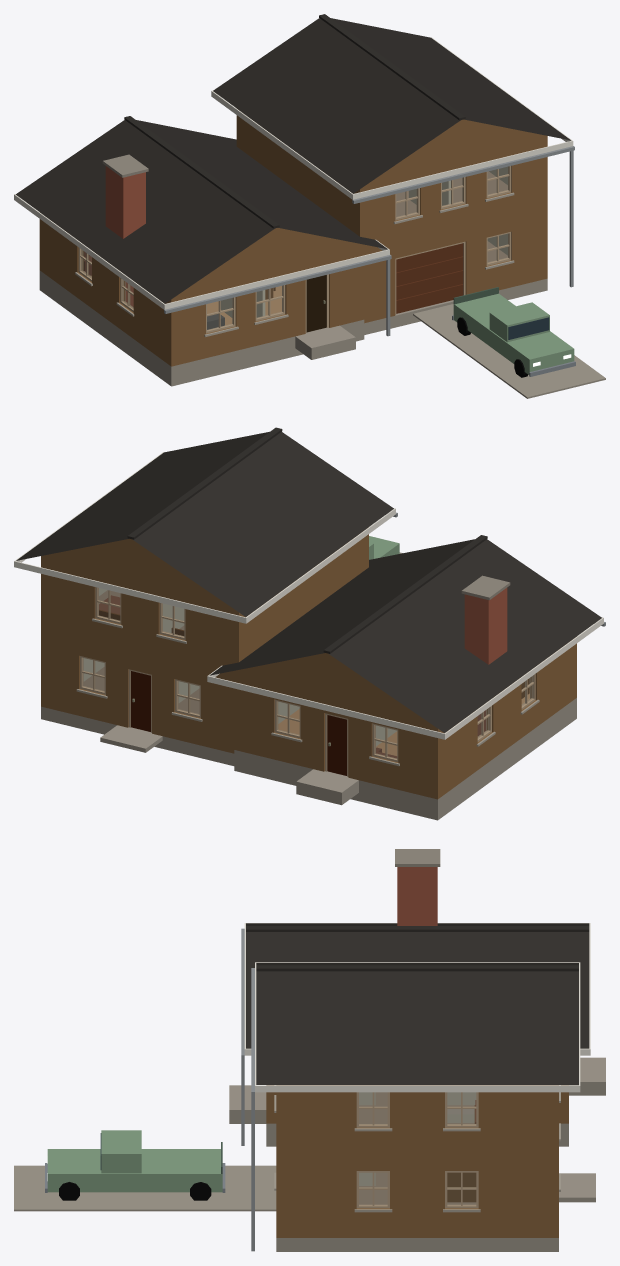
File: split_c.glb
3 renders of one model, top to bottom at view 1: azimuth 30°, elevation 25°; view 2: azimuth 150°, elevation 25°; view 3: azimuth 270°, elevation 25°, orthographic. The views are drawn at different scales.
Parts seen in each view (by area): view 1: LOD0, LEAF0; view 2: LOD0, LEAF2, LEAF1, FURN; view 3: LOD0.
Part boxes in pixels (x1,y1,x2,y2): LOD0: (14, 14, 605, 398); LEAF0: (306, 275, 326, 332); LOD0: (14, 427, 605, 820); LEAF2: (131, 671, 150, 731); LEAF1: (327, 715, 346, 775); FURN: (99, 595, 529, 758); LOD0: (14, 849, 605, 1251).
Size of what is drawn, in the model's own units: 16.32 by 7.62 by 17.6.
